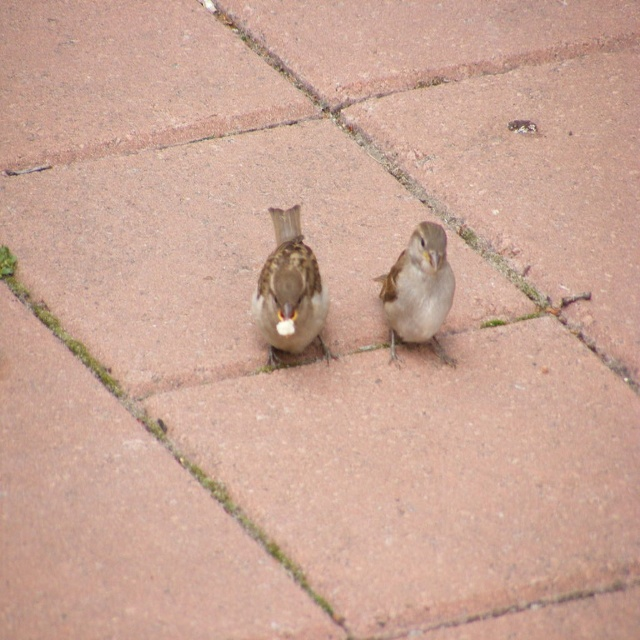Sparrow: (247, 202, 338, 362), (373, 220, 458, 364)
